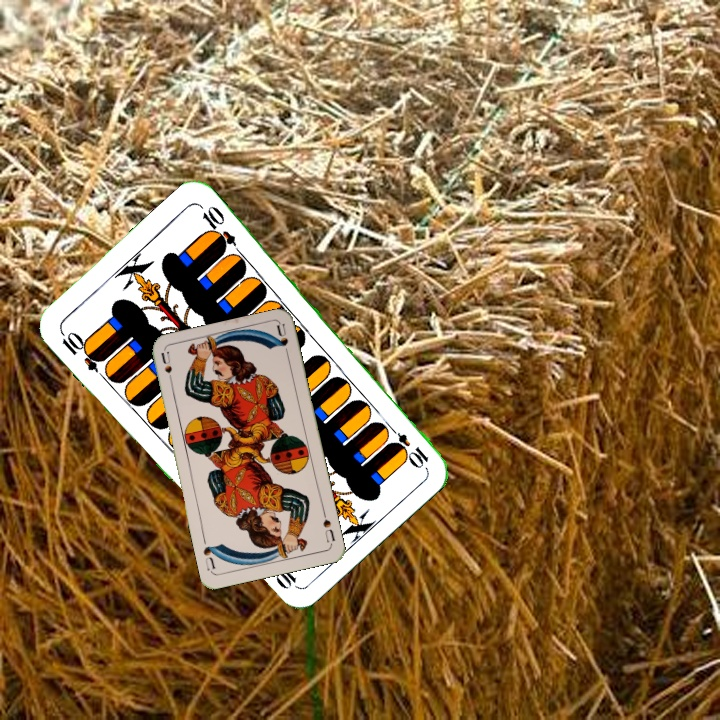E10: (383, 421, 432, 470), (56, 326, 106, 374)
SU: (157, 348, 176, 389), (319, 506, 337, 547)
